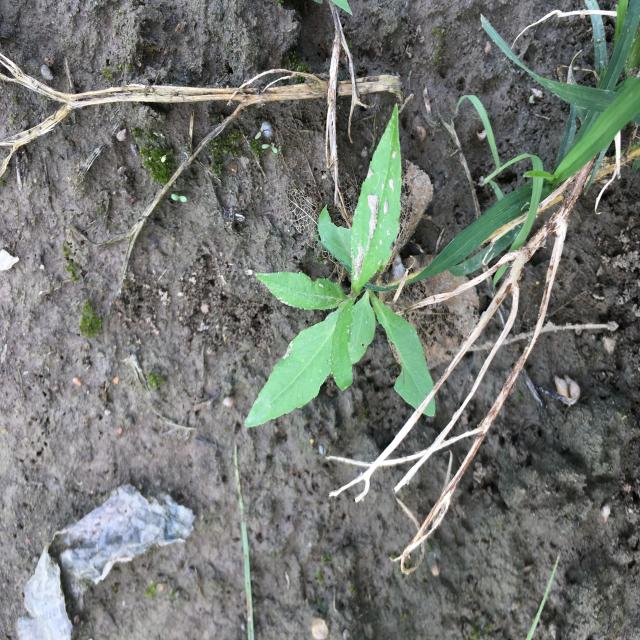Eclipta: (242, 101, 438, 430)
